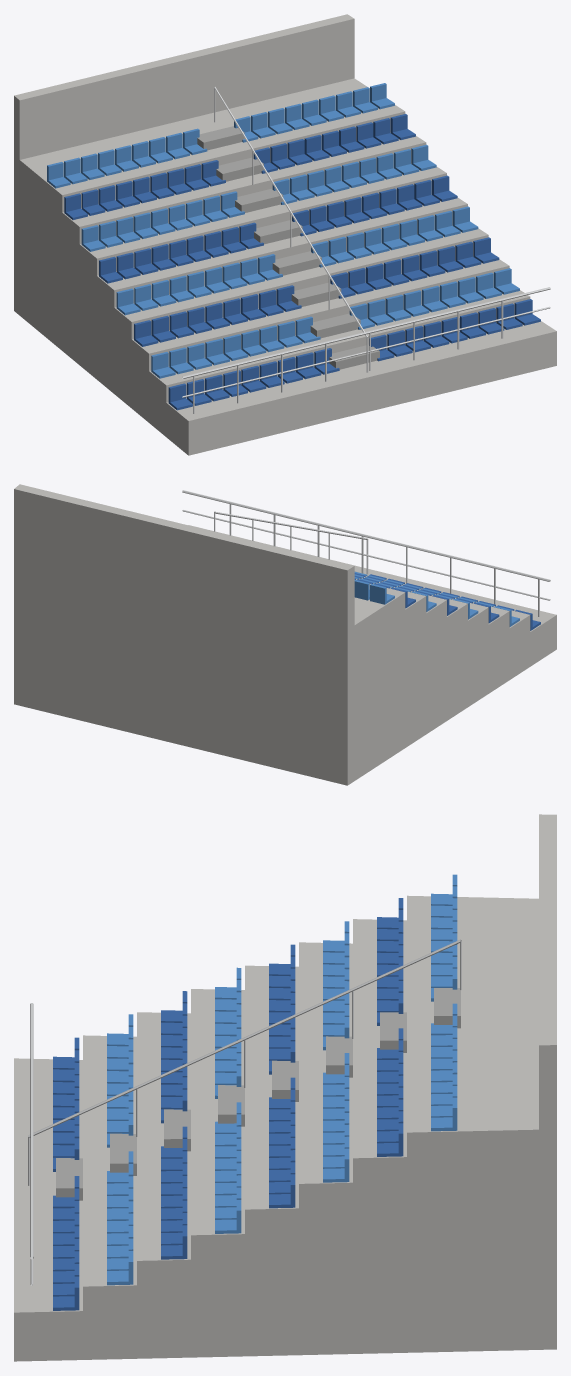
Rendered from bay_10m_curve6_in.glb.
3 renders of one model, top to bottom at view 1: azimuth 30°, elevation 25°; view 2: azimuth 150°, elevation 25°; view 3: azimuth 270°, elevation 25°, orthographic. The views are drawn at different scales.
Visible parts, largest first — view 1: bay_10m_curve6_in; view 2: bay_10m_curve6_in; view 3: bay_10m_curve6_in.
Part boxes in pixels (<box>): bay_10m_curve6_in: <box>14,14,556,455</box>; bay_10m_curve6_in: <box>14,484,556,785</box>; bay_10m_curve6_in: <box>14,814,556,1361</box>.
Size of the model in its own units: 10.03 by 5.6 by 9.05.
